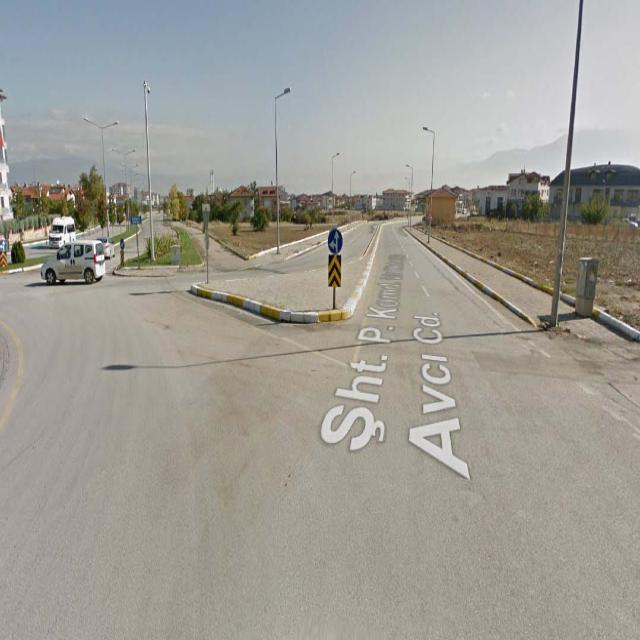ilerisol: (327, 229, 343, 253)
